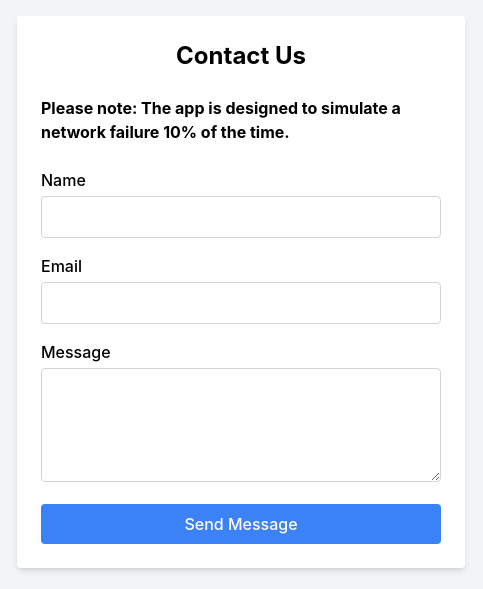
Test: ContactForm Component › shows loading state during form submission
Type "Test User" into the field labelled "Name" at [241, 217], box [41, 196, 441, 238]
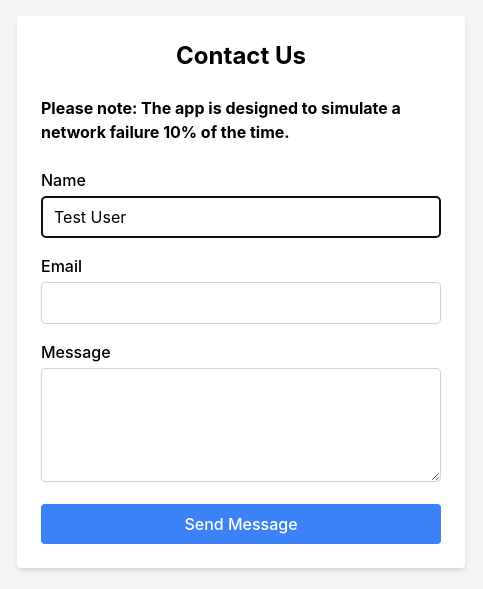
Type "test@example.com" into the field labelled "Email" at [241, 303], box [41, 282, 441, 324]
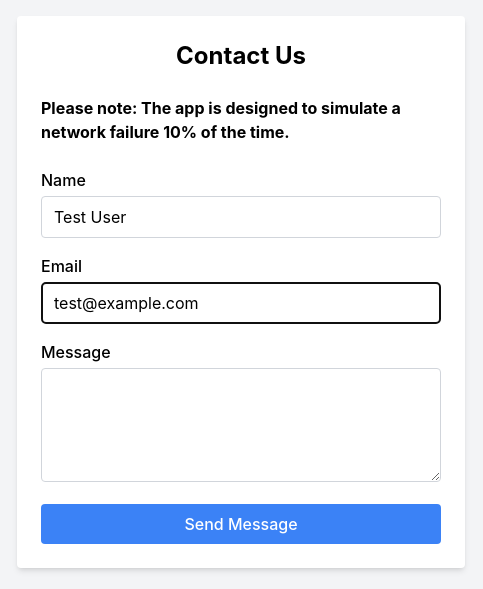
Type "Test message with at least 10 chars" into the text box labelled "Message" at [241, 425], box [41, 368, 441, 482]
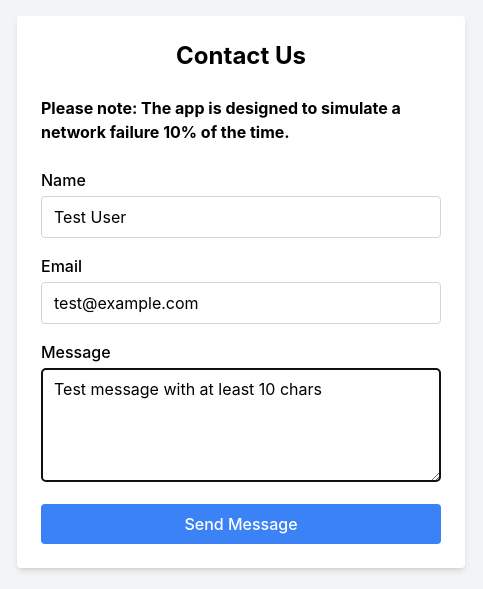
Click the button "Send Message" at [241, 524], box [41, 504, 441, 544]
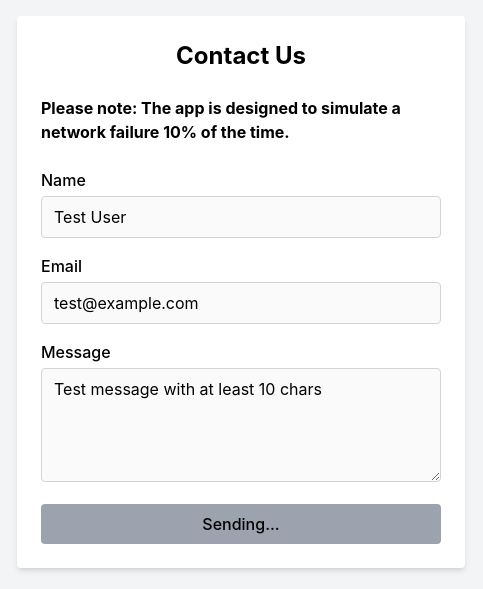
Expected: the button is disabled, [41, 504, 441, 544]
